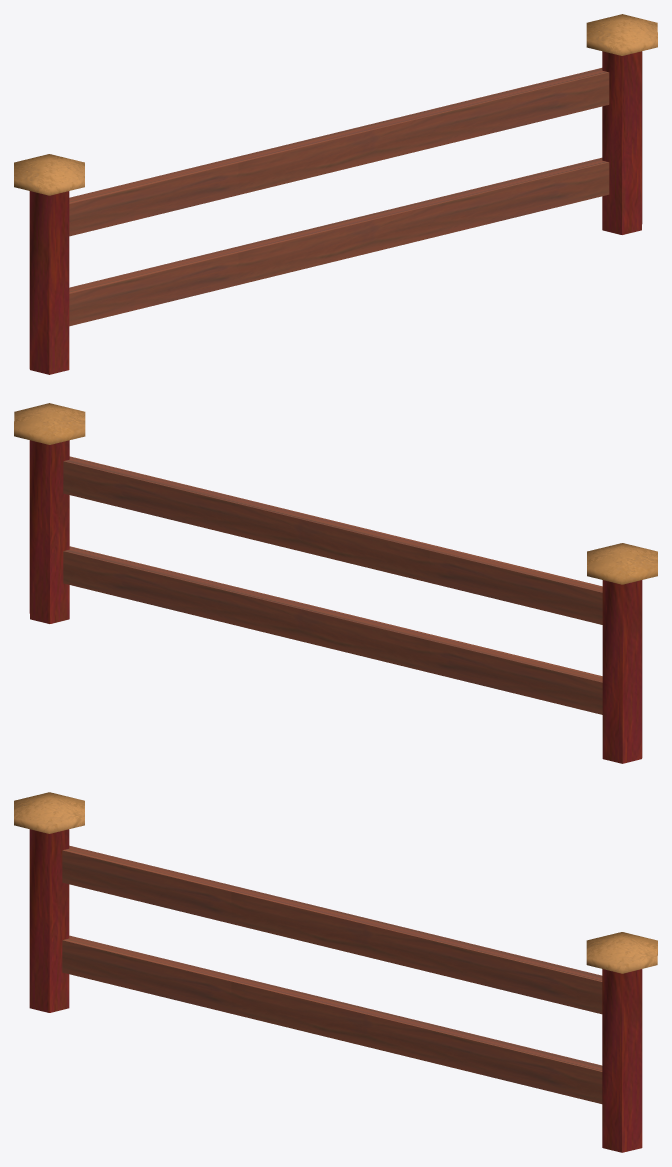
File: Fence01_Art.fbx
The picture shows the model from 3 angles, top to bottom: view 1: azimuth 30°, elevation 25°; view 2: azimuth 150°, elevation 25°; view 3: azimuth 330°, elevation 25°; orthographic projection.
Visible parts, largest first — view 1: Fence01_Art; view 2: Fence01_Art; view 3: Fence01_Art.
Boxes of the visible parts, bbox=[...] form: Fence01_Art: bbox=[14, 14, 657, 374]; Fence01_Art: bbox=[14, 403, 657, 763]; Fence01_Art: bbox=[14, 792, 657, 1152].
Bounding box in the file's own units: 6.11 × 1.86 × 0.5833.
